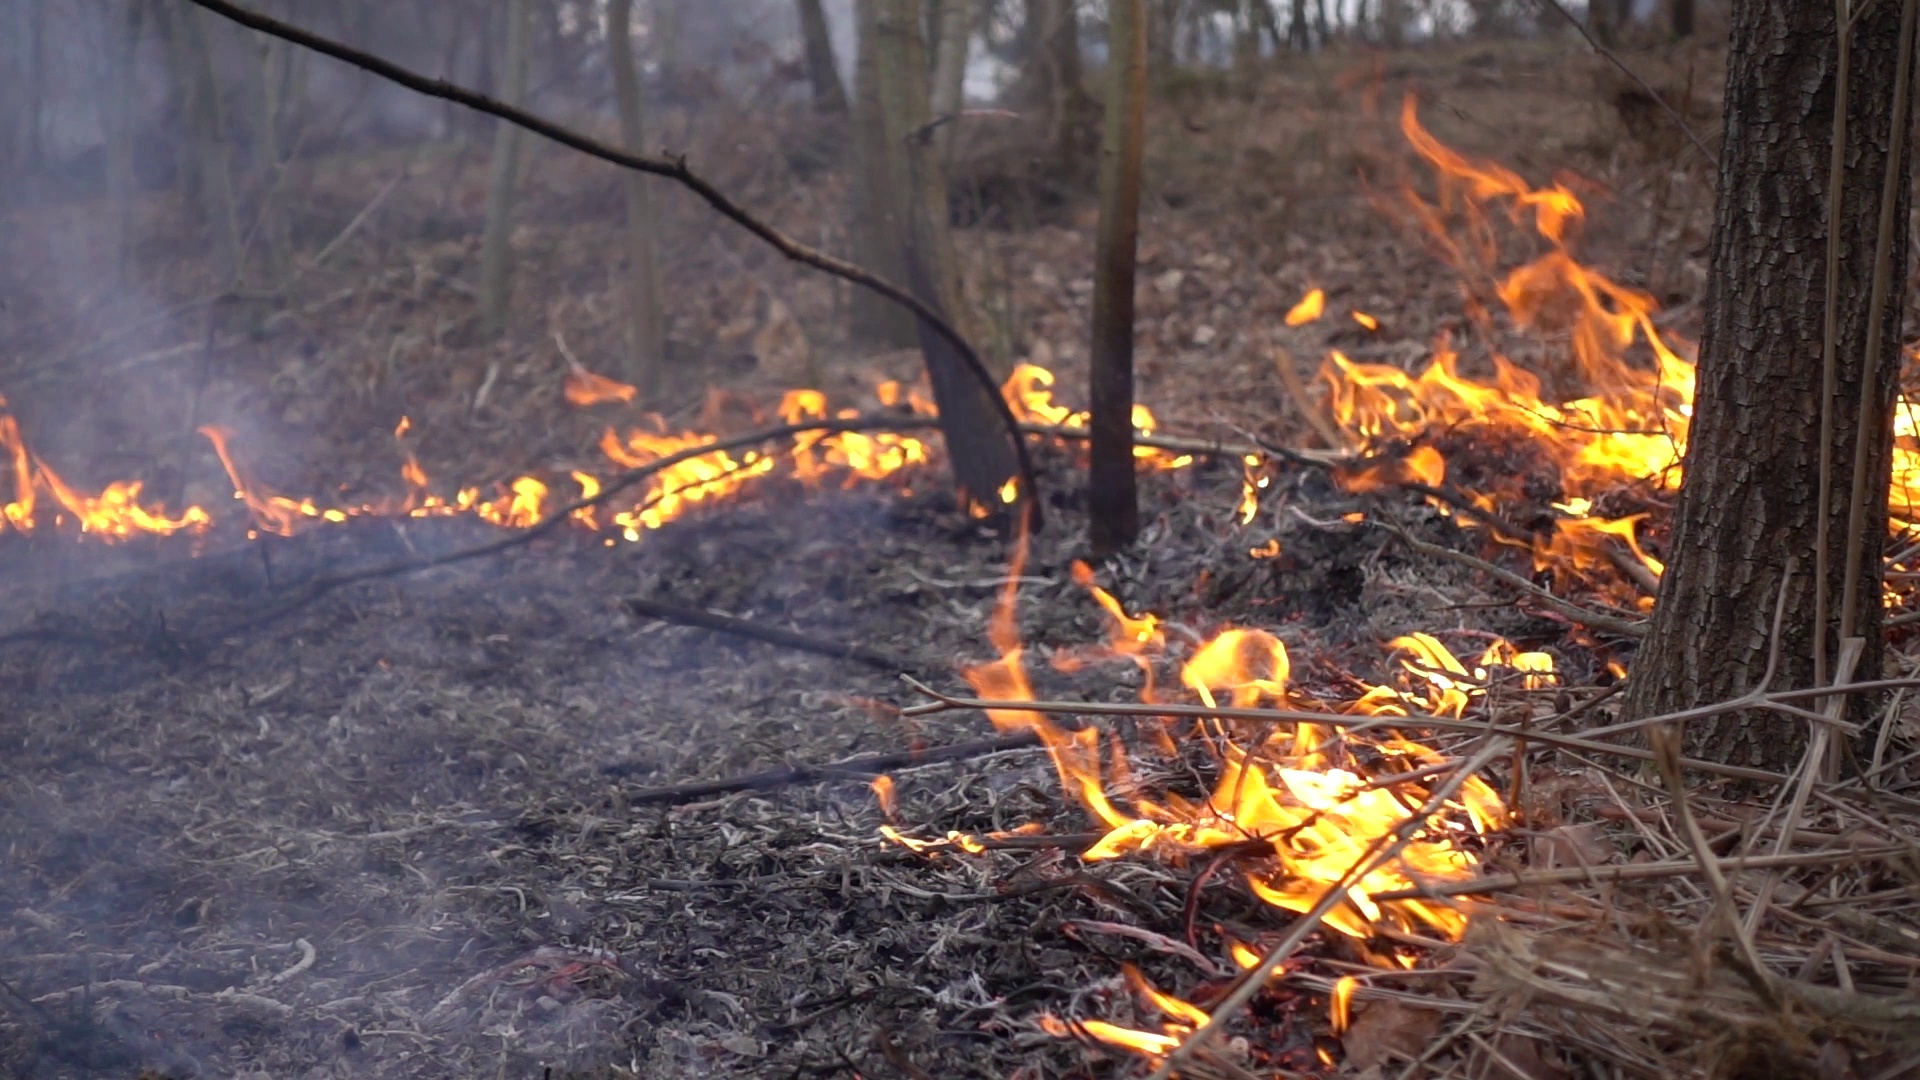fire: (945, 607, 1553, 965), (1276, 276, 1695, 585), (3, 454, 351, 535), (600, 421, 746, 545), (781, 386, 918, 481), (392, 462, 545, 539), (1004, 363, 1067, 433), (1890, 415, 1920, 527)
